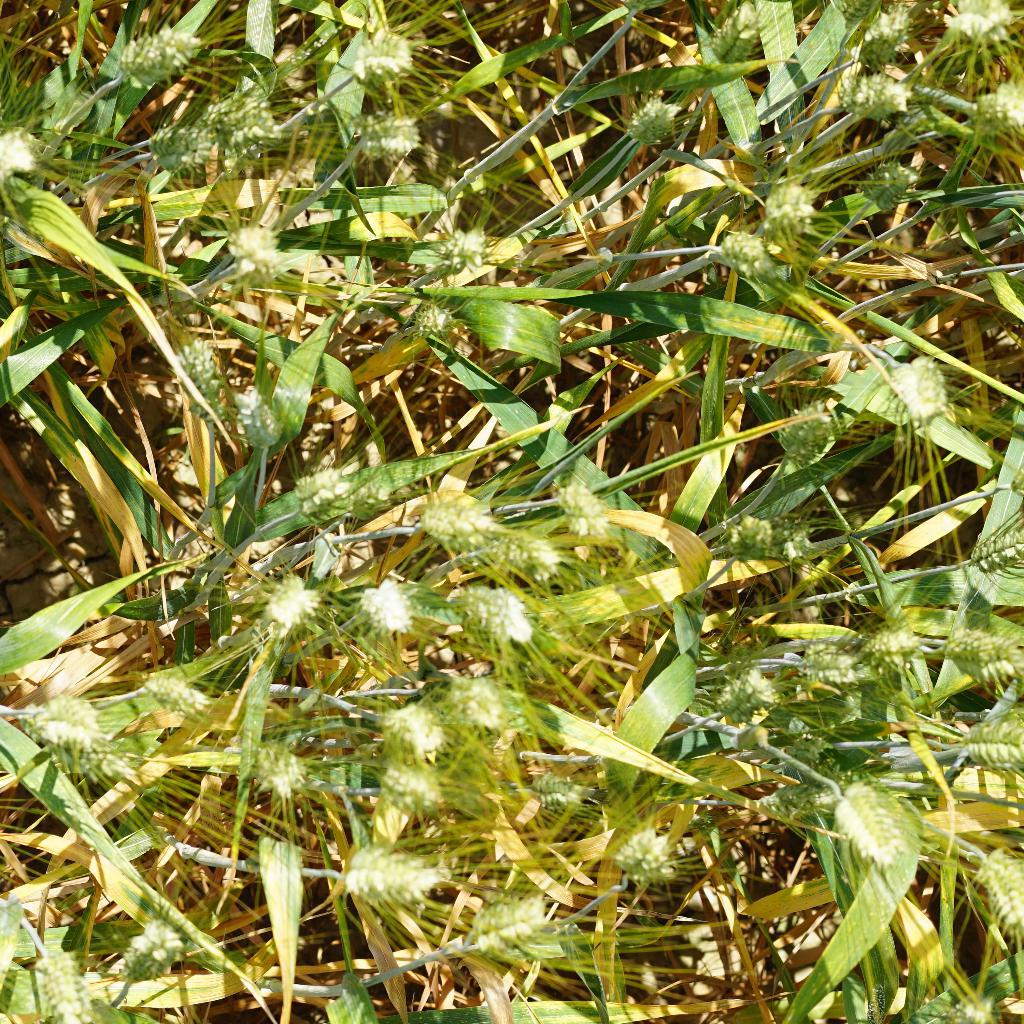0-0: (322, 828, 443, 915), (815, 772, 911, 873), (7, 690, 119, 776), (101, 14, 213, 98), (882, 335, 960, 437), (837, 67, 923, 158), (388, 271, 470, 362), (463, 889, 563, 963), (342, 100, 438, 176), (108, 914, 190, 998), (175, 332, 238, 441), (335, 21, 419, 100), (240, 555, 314, 643), (449, 574, 538, 647), (208, 208, 291, 286), (933, 612, 1024, 682), (114, 661, 219, 721), (463, 519, 561, 583), (367, 752, 456, 821), (441, 661, 511, 747), (774, 392, 845, 474), (963, 834, 1024, 929), (706, 225, 792, 291), (408, 478, 489, 548), (751, 761, 834, 829), (597, 821, 680, 888), (32, 945, 98, 1024), (850, 0, 922, 72), (283, 470, 365, 531), (191, 89, 269, 153), (957, 501, 1024, 575), (706, 0, 773, 73), (524, 762, 601, 825), (373, 690, 447, 755), (359, 564, 419, 643), (961, 73, 1024, 147), (755, 167, 822, 236), (852, 149, 923, 214), (0, 108, 58, 187), (148, 118, 223, 179), (246, 736, 313, 804), (955, 707, 1024, 770), (934, 0, 1012, 55), (617, 82, 683, 146), (539, 478, 615, 533), (234, 380, 286, 459), (718, 654, 778, 722), (433, 213, 505, 269), (732, 497, 796, 560), (800, 638, 869, 694), (863, 613, 922, 669), (787, 720, 843, 777), (833, 0, 889, 49), (677, 806, 717, 836)
